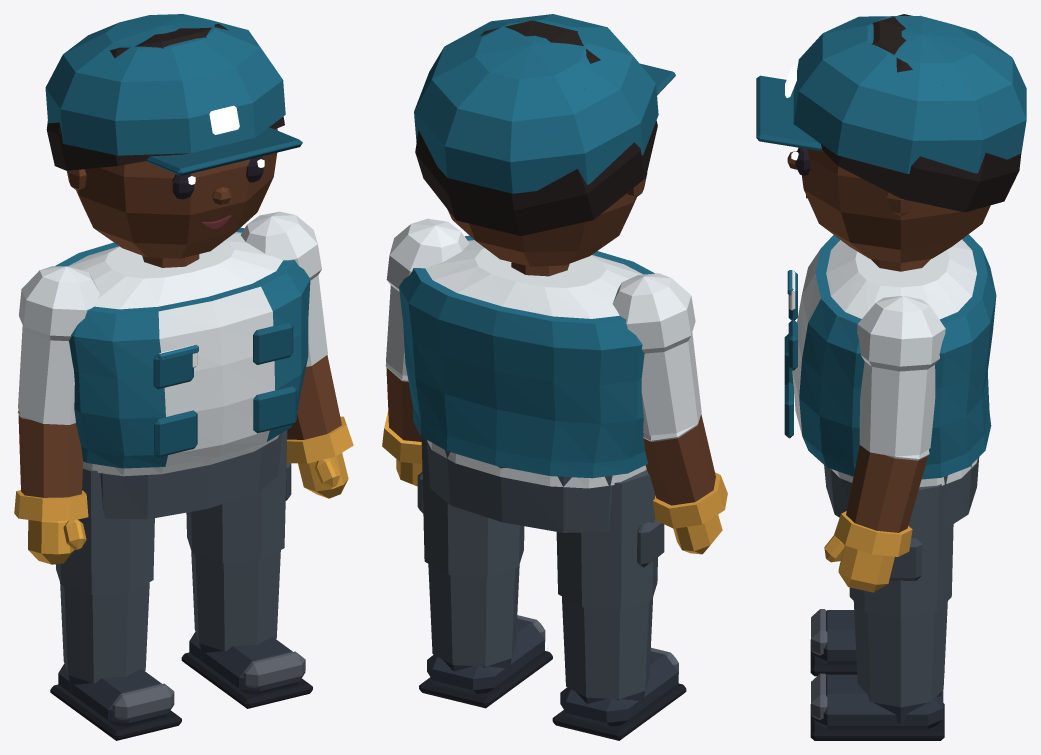
The model's file is auf_grundmodell.glb.
3 renders of one model, left to right at view 1: azimuth 30°, elevation 25°; view 2: azimuth 150°, elevation 25°; view 3: azimuth 270°, elevation 25°, orthographic.
Parts seen in each view (by area): view 1: weste, kopfbedeckung, arm_r, bein_r, bein_l, kopf, torso, arm_l, becken, taschen, schuh_r, schuh_l (+4 smaller); view 2: weste, kopfbedeckung, bein_r, arm_r, bein_l, haare, torso, becken, arm_l, kopf, schuh_r, schuh_l (+1 smaller); view 3: kopfbedeckung, weste, arm_l, bein_l, kopf, torso, haare, schuh_l, schuh_r, becken, hand_l, taschen (+2 smaller).
Part boxes in pixels (<box>): weste: <box>55,227,310,468</box>; kopfbedeckung: <box>45,14,302,175</box>; arm_r: <box>14,266,99,521</box>; bein_r: <box>55,466,154,683</box>; bein_l: <box>186,430,291,651</box>; kopf: <box>67,128,277,258</box>; torso: <box>67,232,282,476</box>; arm_l: <box>240,211,353,463</box>; becken: <box>100,433,281,519</box>; taschen: <box>153,322,296,457</box>; schuh_r: <box>50,664,181,740</box>; schuh_l: <box>181,632,312,708</box>; weste: <box>399,235,654,478</box>; kopfbedeckung: <box>414,14,675,193</box>; bein_r: <box>556,469,664,699</box>; arm_r: <box>612,273,727,528</box>; bein_l: <box>417,437,524,666</box>; haare: <box>415,20,657,236</box>; torso: <box>425,240,646,488</box>; becken: <box>426,440,612,532</box>; arm_l: <box>382,218,469,463</box>; kopf: <box>447,172,647,266</box>; schuh_r: <box>552,647,686,740</box>; schuh_l: <box>419,615,552,708</box>; kopfbedeckung: <box>756,15,1026,173</box>; weste: <box>792,234,996,479</box>; arm_l: <box>834,296,945,556</box>; bein_l: <box>849,484,953,707</box>; kopf: <box>801,149,990,262</box>; torso: <box>826,239,977,487</box>; haare: <box>817,14,1021,212</box>; schuh_l: <box>810,673,944,740</box>; schuh_r: <box>810,609,944,676</box>; becken: <box>824,457,979,530</box>; hand_l: <box>824,535,894,592</box>; taschen: <box>784,271,797,438</box>.
Bounding box in the file's own units: 0.0124 × 0.0234 × 0.00866.
